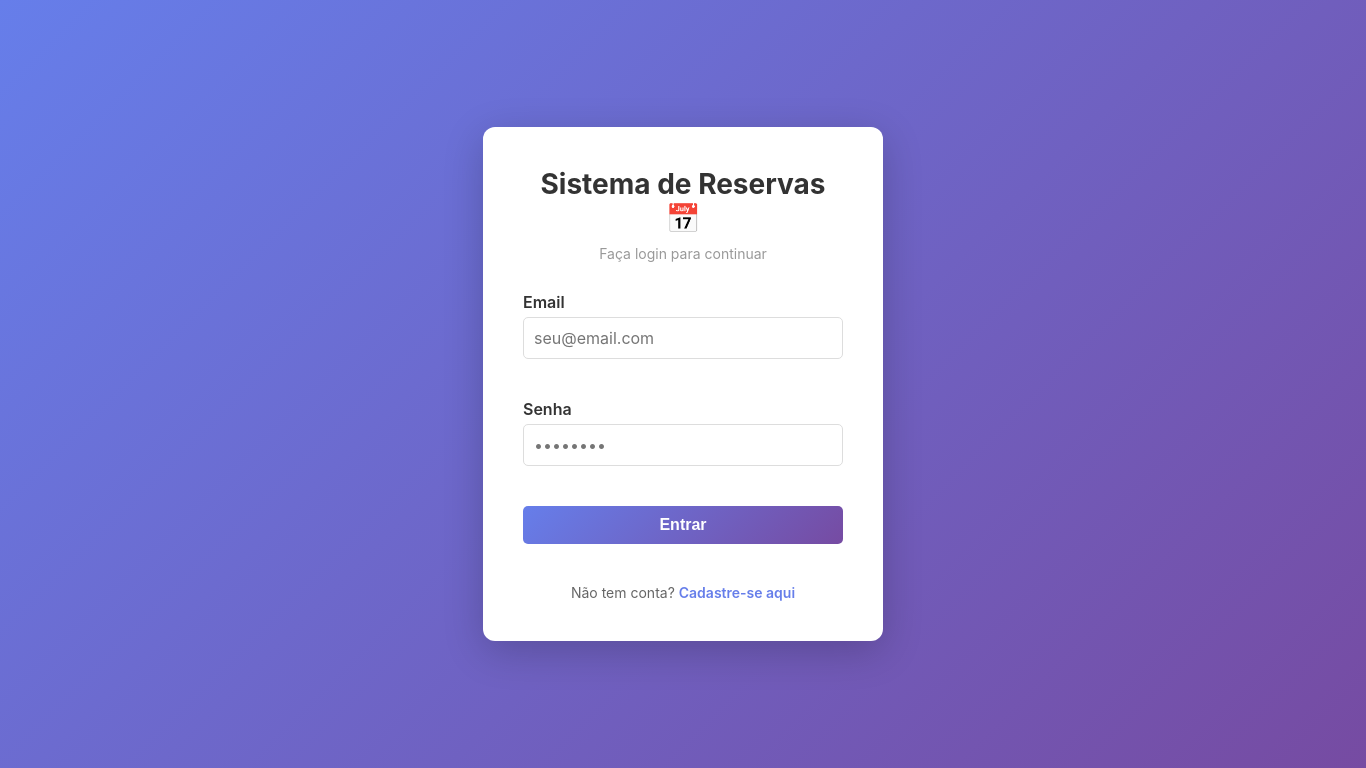
Scenario: Login Component › shows error on login failure
Type "test@example.com" into the field labelled "Email" at {"x": 683, "y": 338}, box [523, 317, 843, 359]
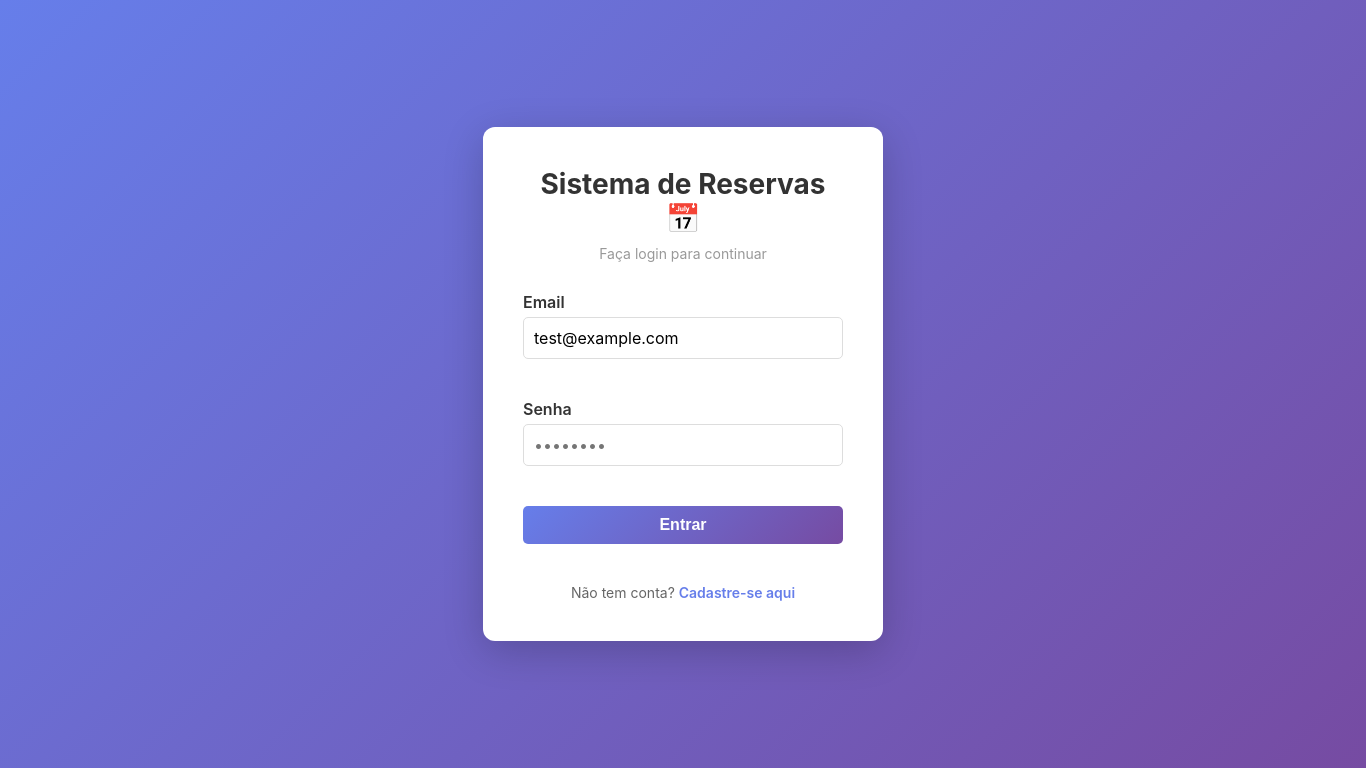
Type "123456" into the password field labelled "Senha" at {"x": 683, "y": 445}, box [523, 424, 843, 466]
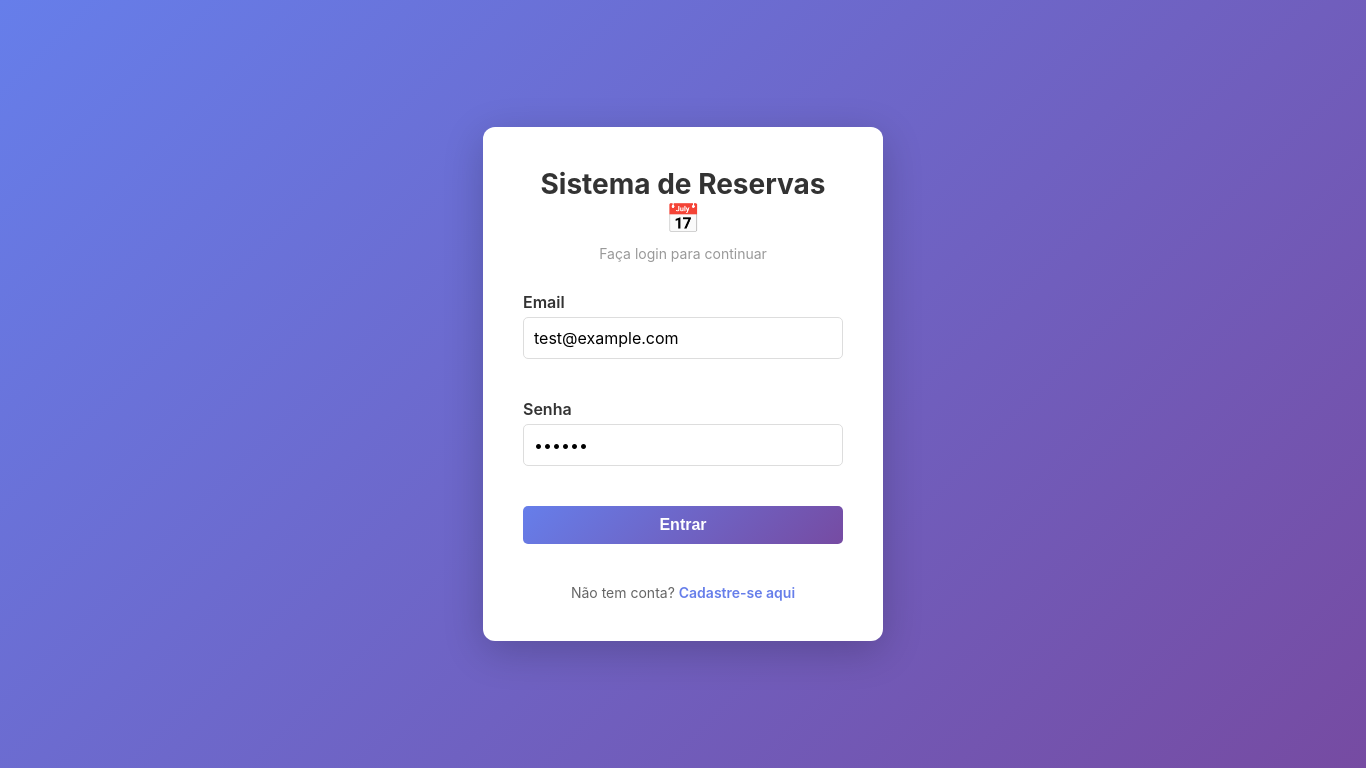
Click the button "Entrar" at {"x": 683, "y": 525}, box [523, 506, 843, 544]
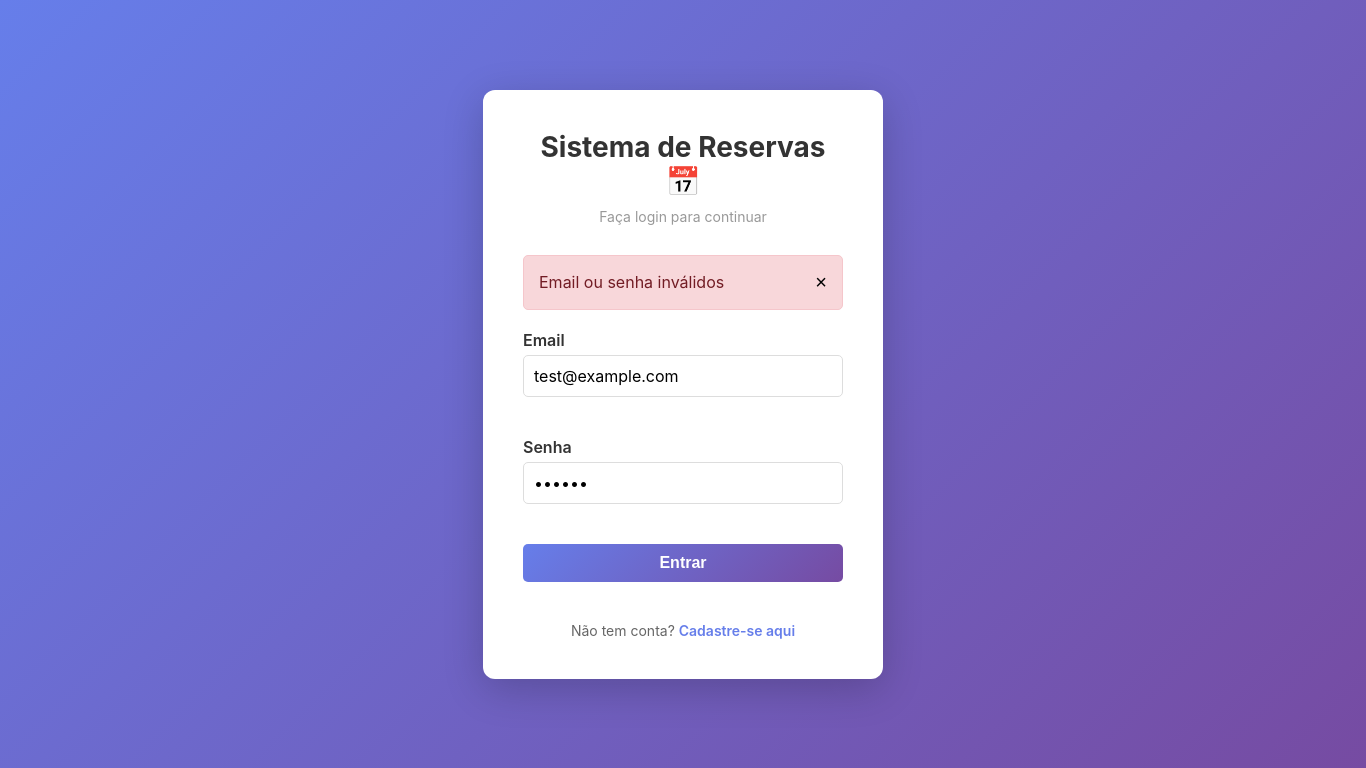
Now the text "Email ou senha inválidos" is shown, box [539, 272, 724, 292]
